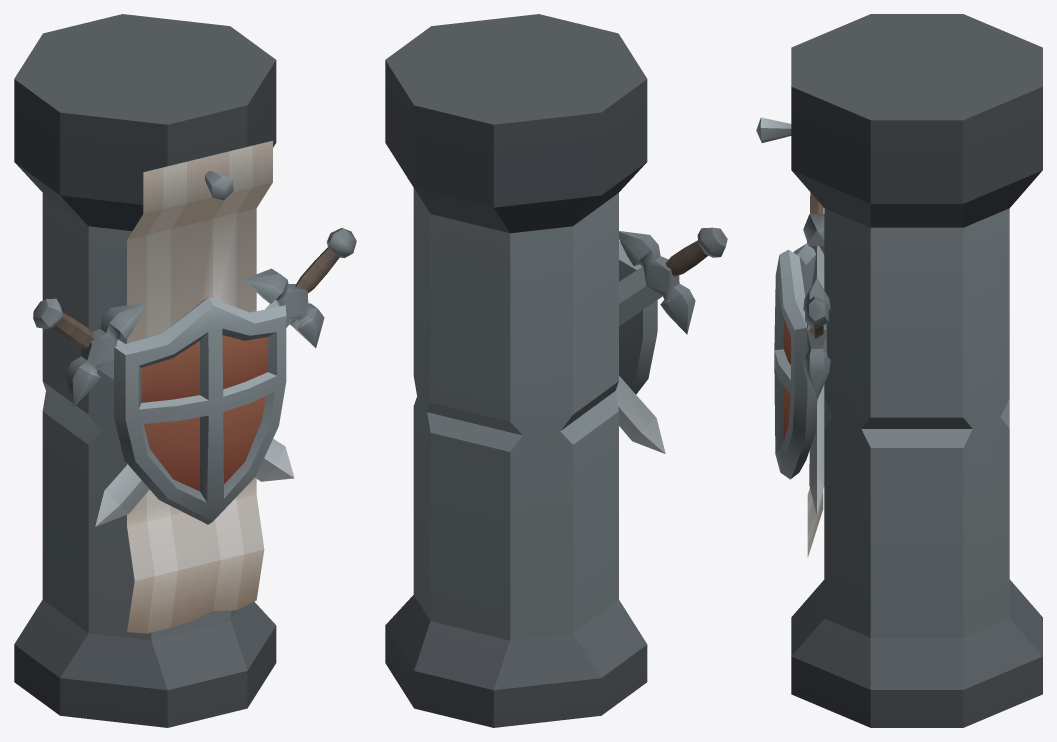
Rendered from pillar_decorated.gltf.glb.
The picture shows the model from 3 angles, left to right: view 1: azimuth 30°, elevation 25°; view 2: azimuth 150°, elevation 25°; view 3: azimuth 270°, elevation 25°; orthographic projection.
Parts seen in each view (by area): view 1: pillar_decorated; view 2: pillar_decorated; view 3: pillar_decorated.
Boxes of the visible parts, x1,y1,x2,y2 form: pillar_decorated: (14,14,356,727); pillar_decorated: (385,14,727,727); pillar_decorated: (756,14,1042,727).
Bounding box in the file's own units: 2.23 × 4 × 1.71.
1 material, 1 textured.
